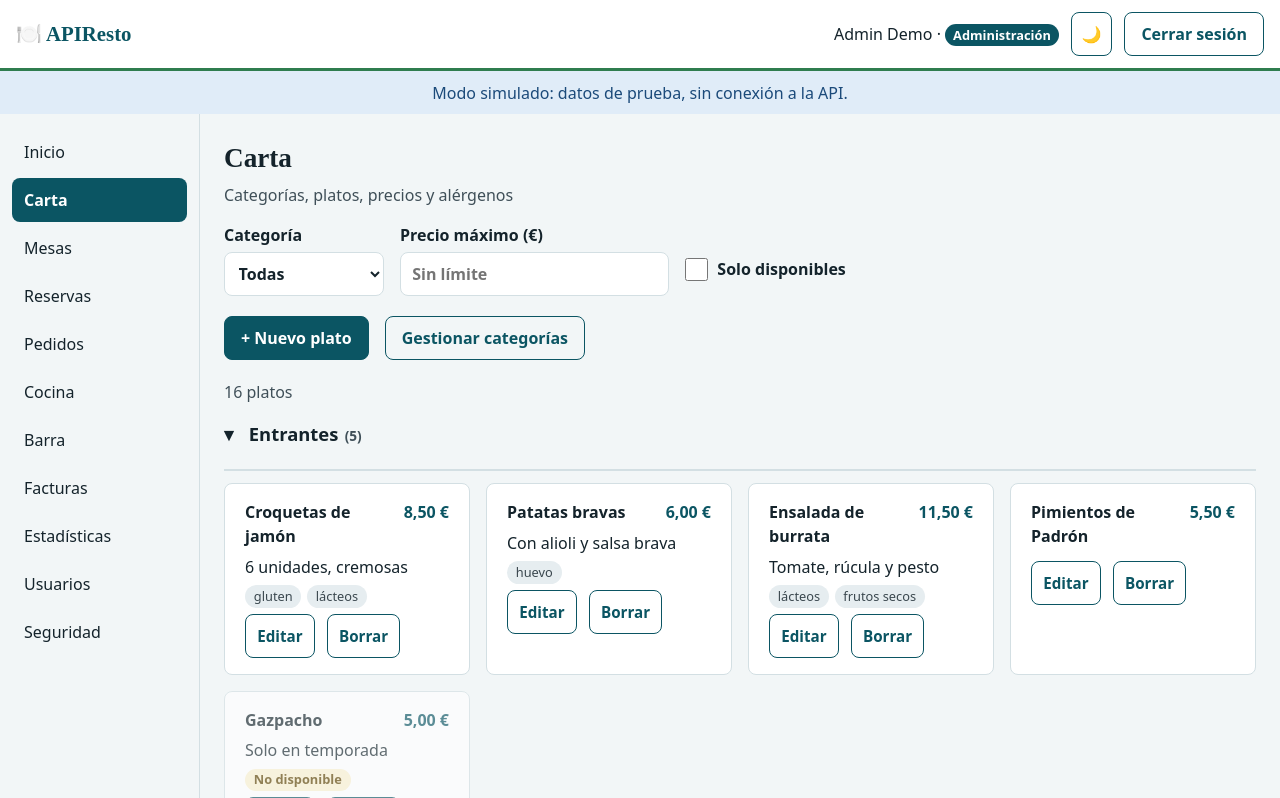
Test: formularios en ventana modal › los platos y las categorías también se editan en un modal
The image size is (1280, 798).
Click the button "+ Nuevo plato".
click(296, 338)  # box [224,316,369,360]
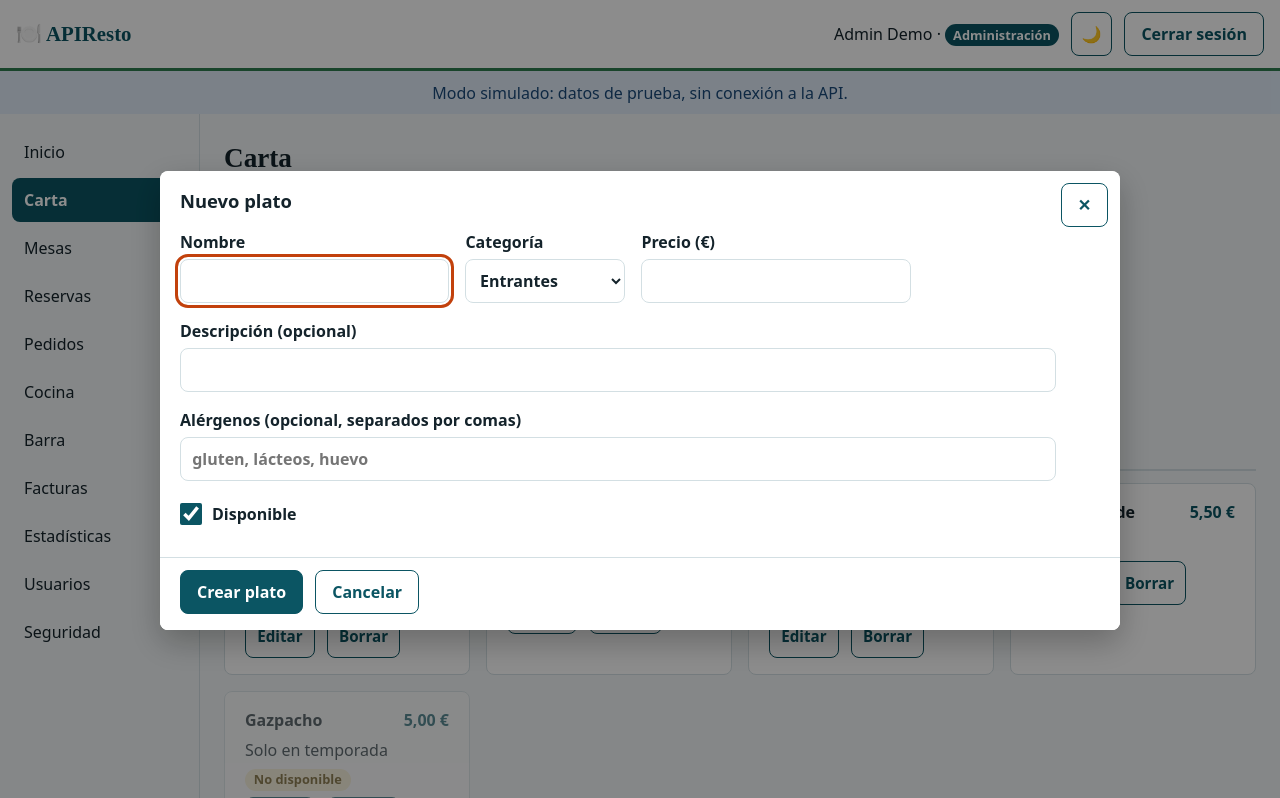
Expected: the dialog "Nuevo plato" is shown, [160,170,1120,630]
Press Escape
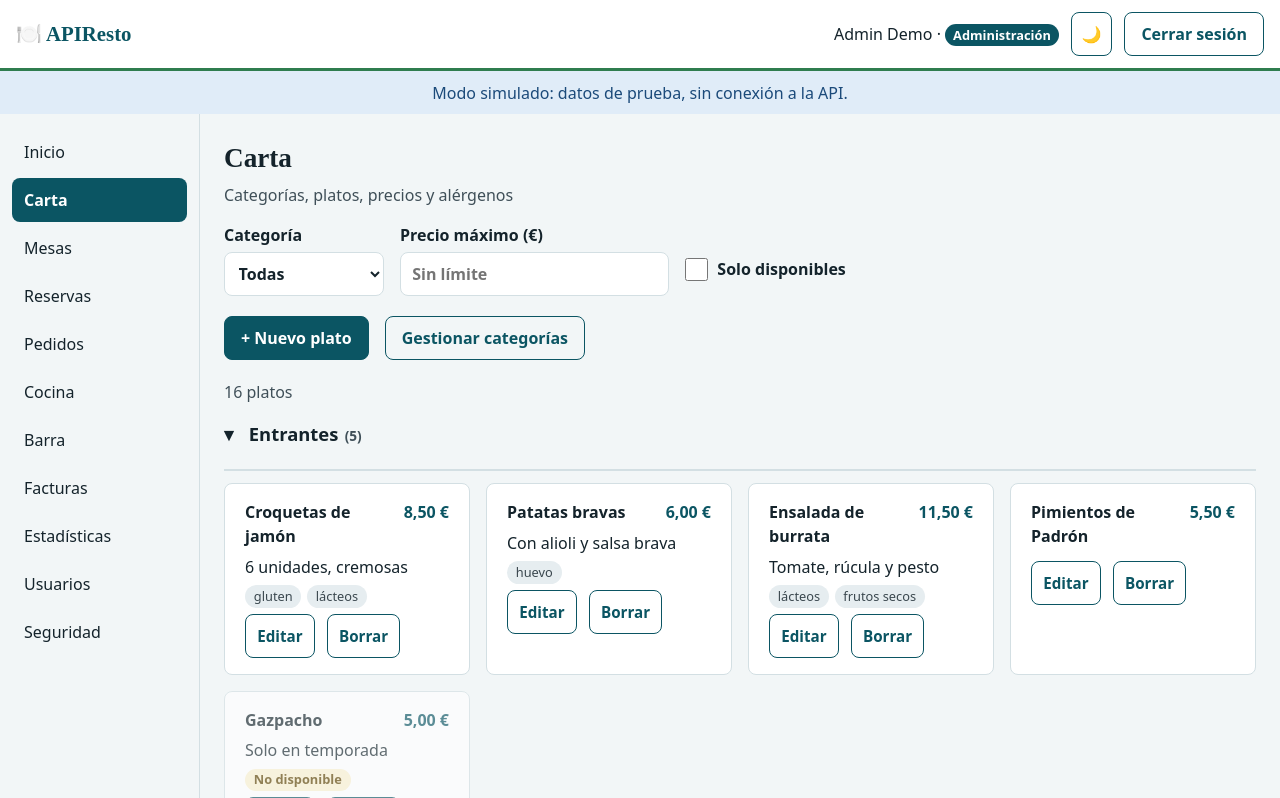
Click the button "Gestionar categorías".
click(485, 338)  # box [385,316,585,360]
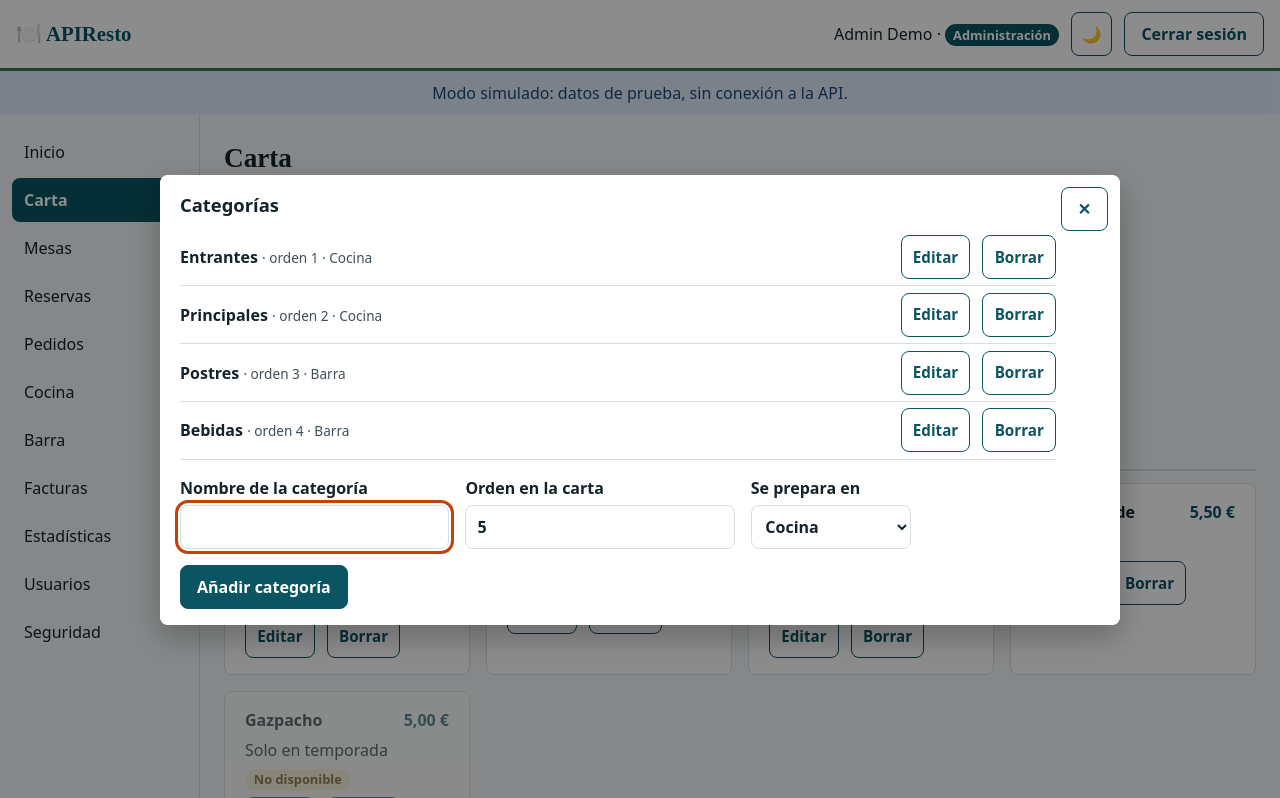
Expected: the dialog "Categorías" is shown, [160,175,1120,624]
Click the button named "Cerrar".
click(1084, 209)  # box [1061,187,1108,231]
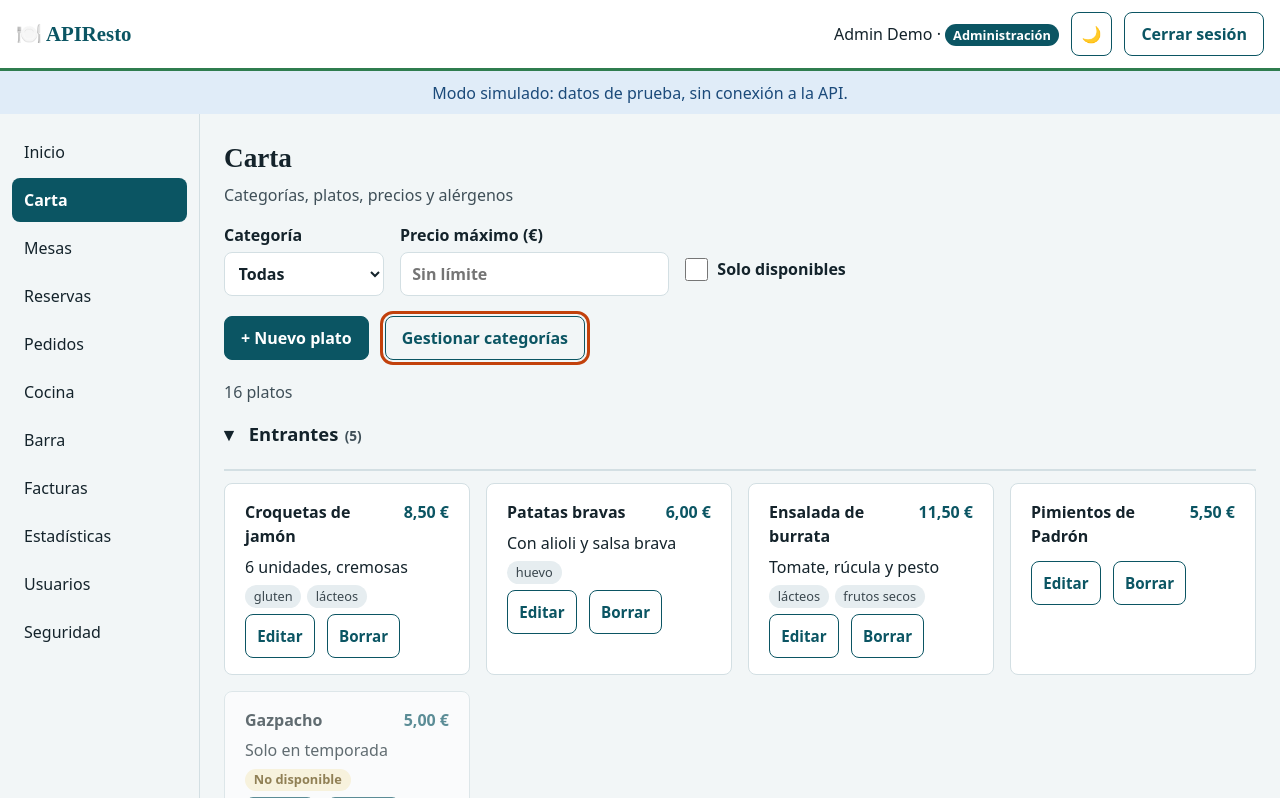
Expected: the dialog is gone
